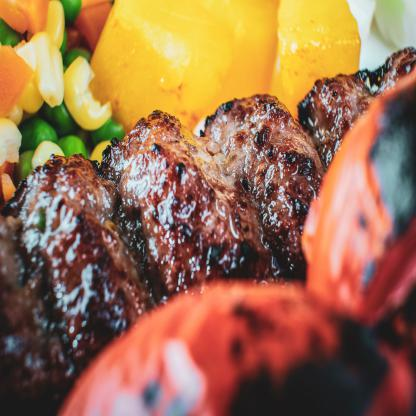Carne: (105, 109, 269, 279), (18, 150, 150, 336), (200, 89, 326, 281), (306, 65, 372, 156)
